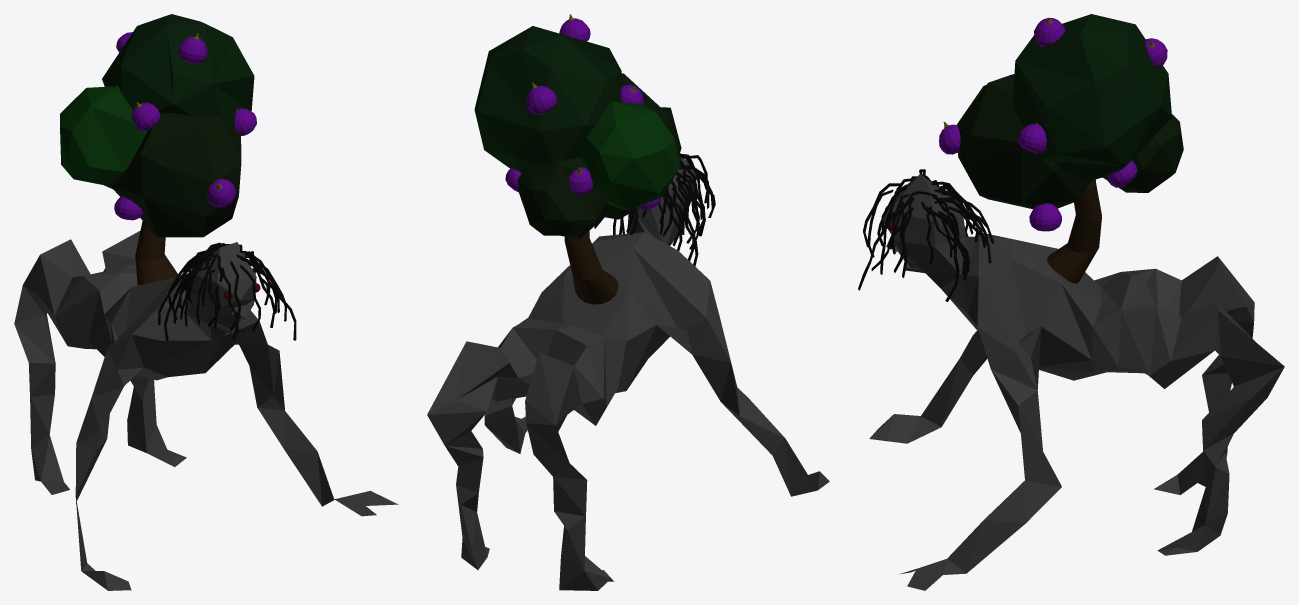
File: podzielony potwór.fbx
3 views of the same model, side by side, from view 1: azimuth 30°, elevation 25°; view 2: azimuth 150°, elevation 25°; view 3: azimuth 270°, elevation 25° (orthographic). The views are drawn at different scales.
Visible parts, largest first — view 1: krzak, humanBody, udo prawe tylne, włosy, ręka lewa, ramie prawe, stopa prawa tylna, stopa lewa tylna, ramie lewe, noga prawa tylna, ręka prawa, drzewo (+6 smaller); view 2: krzak, humanBody, noga lewa tylna, noga prawa tylna, ramie prawe, stopa prawa tylna, udo prawe tylne, włosy, udo lewe tylne, ręka prawa, stopa lewa tylna, drzewo (+4 smaller); view 3: krzak, humanBody, ramie lewe, włosy, ręka lewa, stopa lewa tylna, noga lewa tylna, udo lewe tylne, ręka prawa, udo prawe tylne, drzewo, stopa prawa tylna (+5 smaller).
Part boxes in pixels (bbox=[...]): krzak: bbox=[60, 14, 254, 237]; humanBody: bbox=[84, 242, 257, 380]; udo prawe tylne: bbox=[24, 239, 99, 348]; włosy: bbox=[158, 242, 296, 340]; ręka lewa: bbox=[257, 407, 398, 516]; ramie prawe: bbox=[76, 324, 143, 449]; stopa prawa tylna: bbox=[28, 363, 69, 494]; stopa lewa tylna: bbox=[127, 375, 186, 466]; ramie lewe: bbox=[235, 321, 284, 410]; noga prawa tylna: bbox=[14, 255, 55, 363]; ręka prawa: bbox=[75, 439, 131, 590]; drzewo: bbox=[135, 221, 177, 285]; krzak: bbox=[474, 26, 680, 239]; humanBody: bbox=[513, 157, 710, 392]; noga lewa tylna: bbox=[427, 341, 508, 466]; noga prawa tylna: bbox=[525, 352, 586, 479]; ramie prawe: bbox=[640, 281, 749, 415]; stopa prawa tylna: bbox=[553, 477, 613, 590]; udo prawe tylne: bbox=[525, 337, 617, 425]; włosy: bbox=[594, 147, 715, 266]; udo lewe tylne: bbox=[467, 327, 554, 401]; ręka prawa: bbox=[722, 400, 829, 496]; stopa lewa tylna: bbox=[456, 457, 489, 569]; drzewo: bbox=[564, 231, 618, 304]; krzak: bbox=[957, 14, 1183, 208]; humanBody: bbox=[882, 174, 1157, 380]; ramie lewe: bbox=[977, 327, 1061, 486]; włosy: bbox=[858, 169, 993, 301]; ręka lewa: bbox=[899, 480, 1061, 590]; stopa lewa tylna: bbox=[1157, 400, 1249, 555]; noga lewa tylna: bbox=[1202, 301, 1284, 432]; udo lewe tylne: bbox=[1148, 301, 1217, 388]; ręka prawa: bbox=[869, 335, 987, 443]; udo prawe tylne: bbox=[1156, 256, 1253, 317]; drzewo: bbox=[1047, 179, 1101, 283]; stopa prawa tylna: bbox=[1154, 373, 1231, 494].
Bounding box in the file's own units: 37.71 × 55.29 × 41.16.
